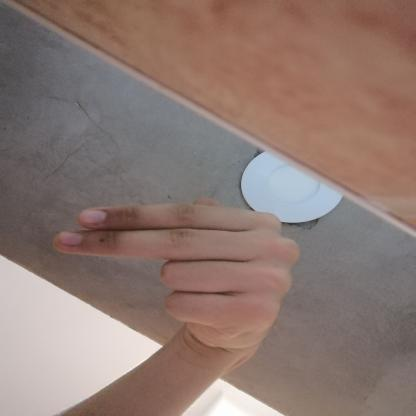AYN: (30, 188, 312, 364)
